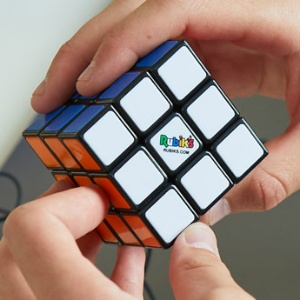cube: (22, 38, 269, 250)
